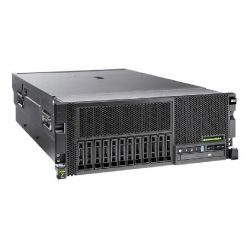ibm-server: (7, 64, 244, 180)
